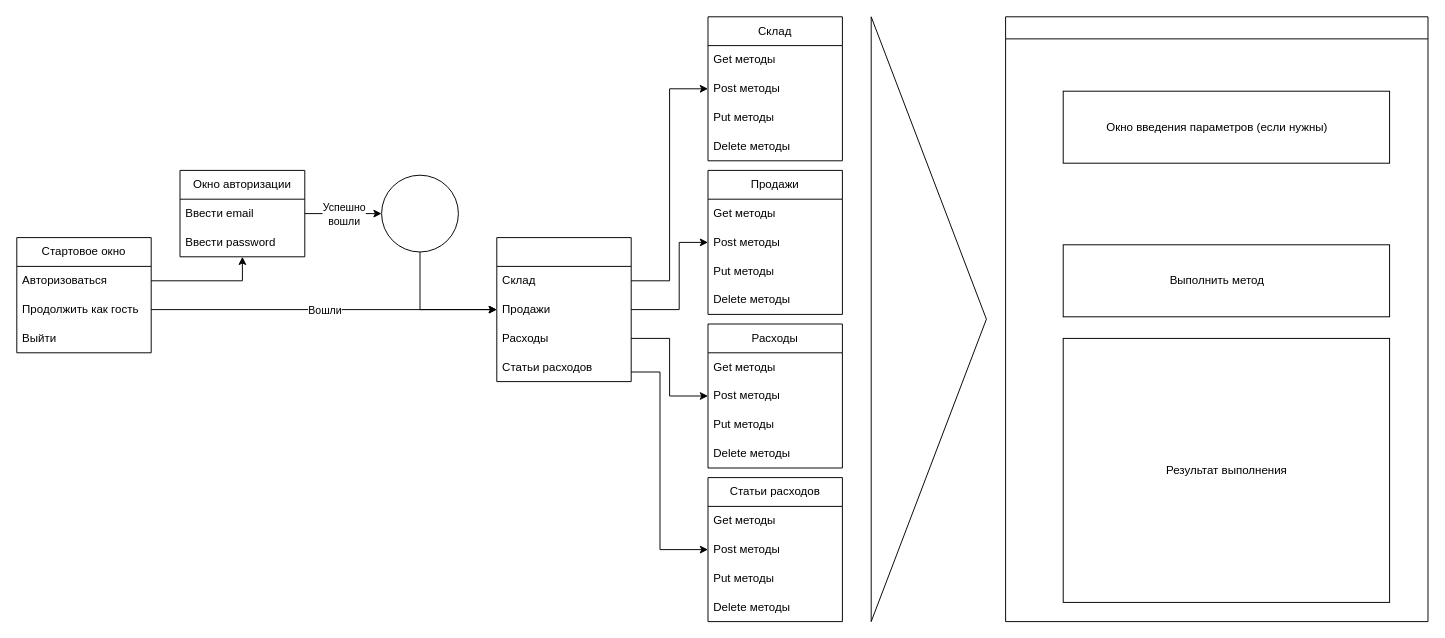
The diagram is 1445 pixels wide and 638 high, and some of its shapes have lost their labels. Each missing label, with the box of its shape:
Выбор категории: (496, 237, 631, 382)
Выбрали метод: (870, 16, 986, 622)
Категория -> Название метода: (1005, 16, 1428, 622)
Сохранить JWT: (381, 174, 458, 252)
